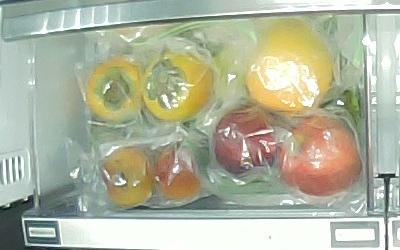apple_vinyl: (279, 114, 362, 197), (213, 106, 280, 174)
grapefruit_vinyl: (247, 18, 333, 114)
persimmon_vinyl: (141, 52, 213, 121), (86, 57, 146, 122)
prune_vinyl: (102, 147, 155, 207), (156, 147, 204, 200)
